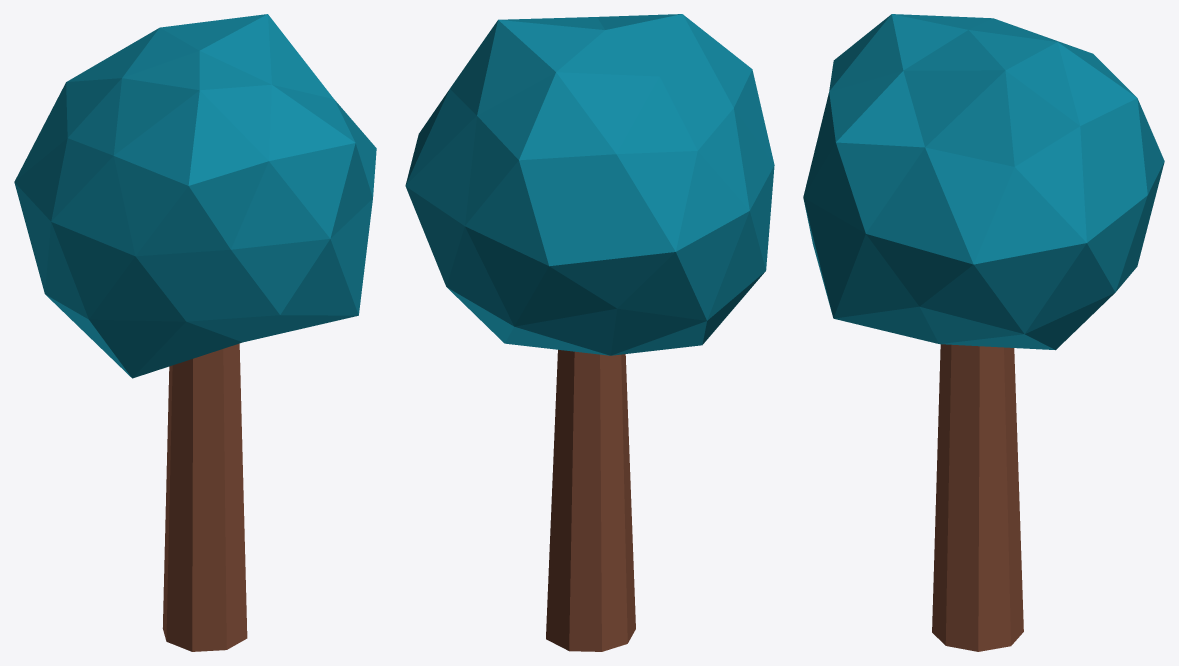
File: Tree_04_summer_blue_mat.fbx
The picture shows the model from 3 angles, left to right: view 1: azimuth 30°, elevation 25°; view 2: azimuth 150°, elevation 25°; view 3: azimuth 270°, elevation 25°; orthographic projection. The views are drawn at different scales.
Visible parts, largest first — view 1: Tree_04_summer_blue_mat; view 2: Tree_04_summer_blue_mat; view 3: Tree_04_summer_blue_mat.
Part boxes in pixels (x1=…): Tree_04_summer_blue_mat: x1=14, y1=14, x2=376, y2=651; Tree_04_summer_blue_mat: x1=405, y1=14, x2=774, y2=651; Tree_04_summer_blue_mat: x1=803, y1=14, x2=1164, y2=651.
Size of the model in its own units: 111 by 193 by 105.
